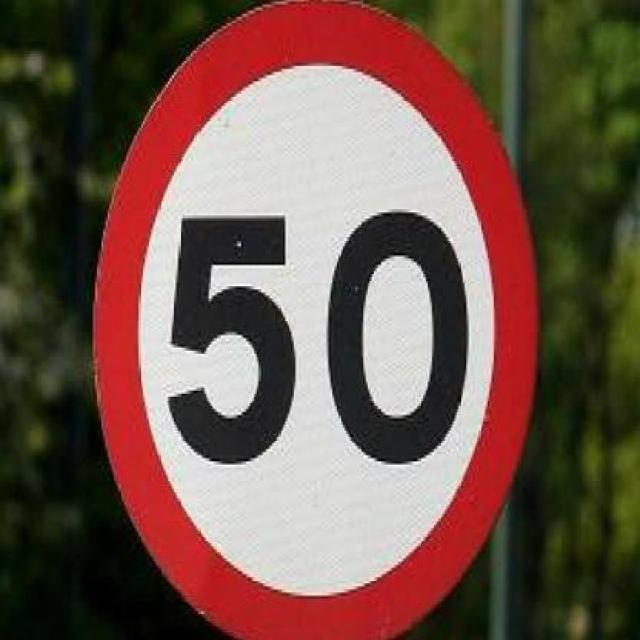speed_limit_50: (110, 31, 538, 620)
